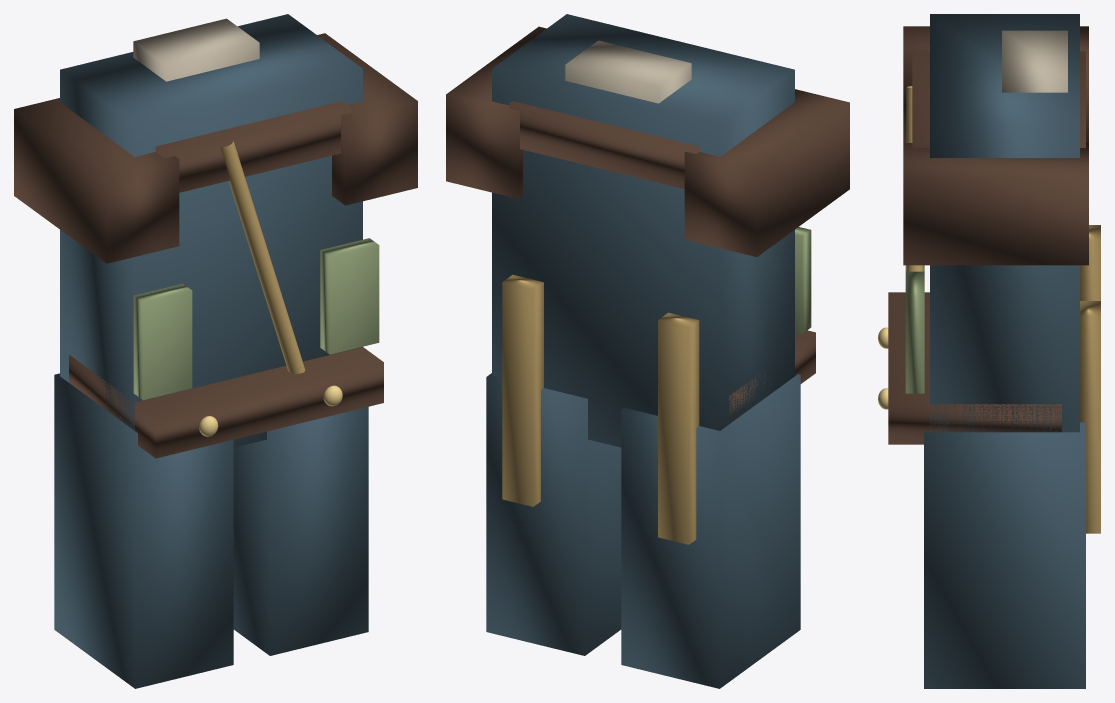
Rendered from Ionia_CaptainsCoat_REVIEW.glb.
3 renders of one model, left to right at view 1: azimuth 30°, elevation 25°; view 2: azimuth 150°, elevation 25°; view 3: azimuth 270°, elevation 25°, orthographic.
Visible parts, largest first — view 1: CaptainsCoat; view 2: CaptainsCoat; view 3: CaptainsCoat.
Part boxes in pixels (box(x1,y1,x2,y2)): CaptainsCoat: box(14, 14, 417, 688); CaptainsCoat: box(446, 14, 849, 688); CaptainsCoat: box(878, 14, 1100, 688).
Bounding box in the file's own units: 0.6 × 1.06 × 0.372.
